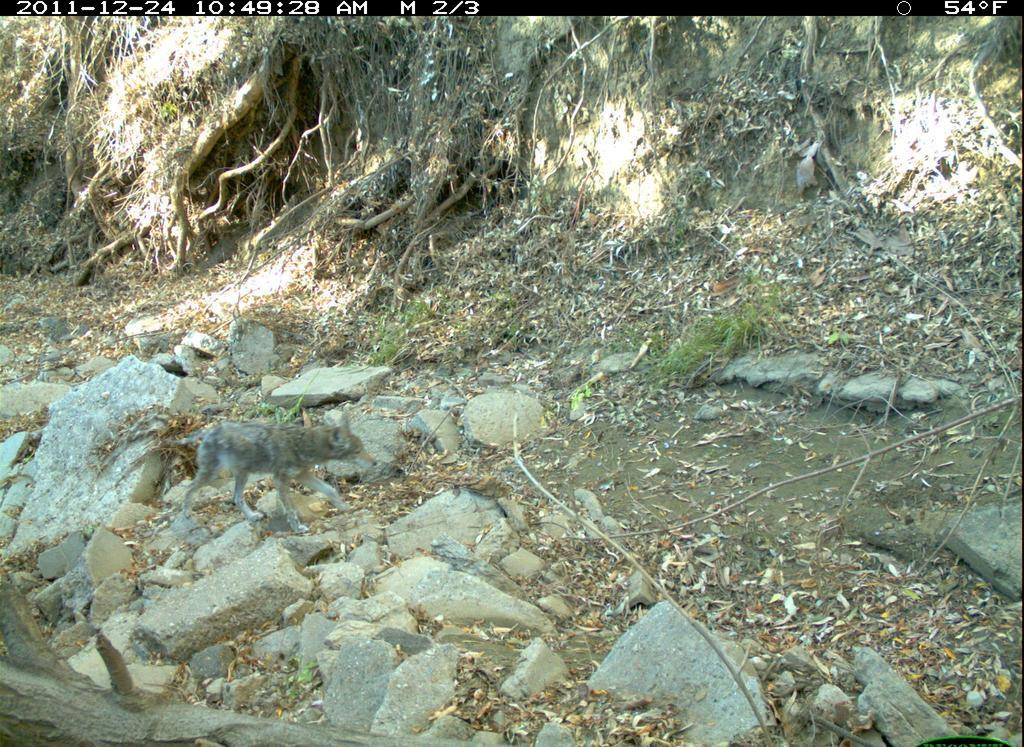coyote: (164, 408, 382, 538)
